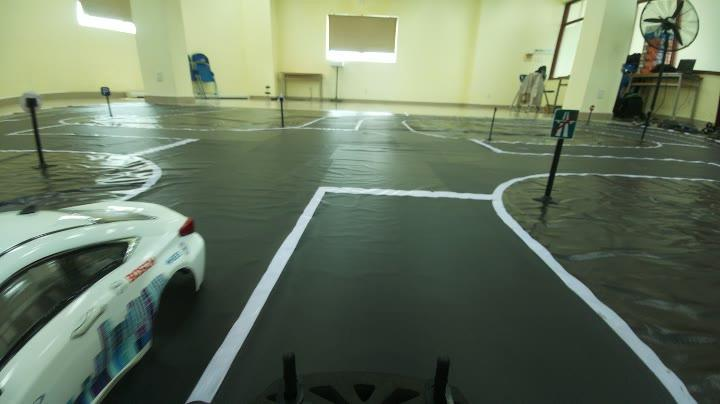car: (1, 175, 210, 400)
highway_exit: (549, 102, 582, 152)
